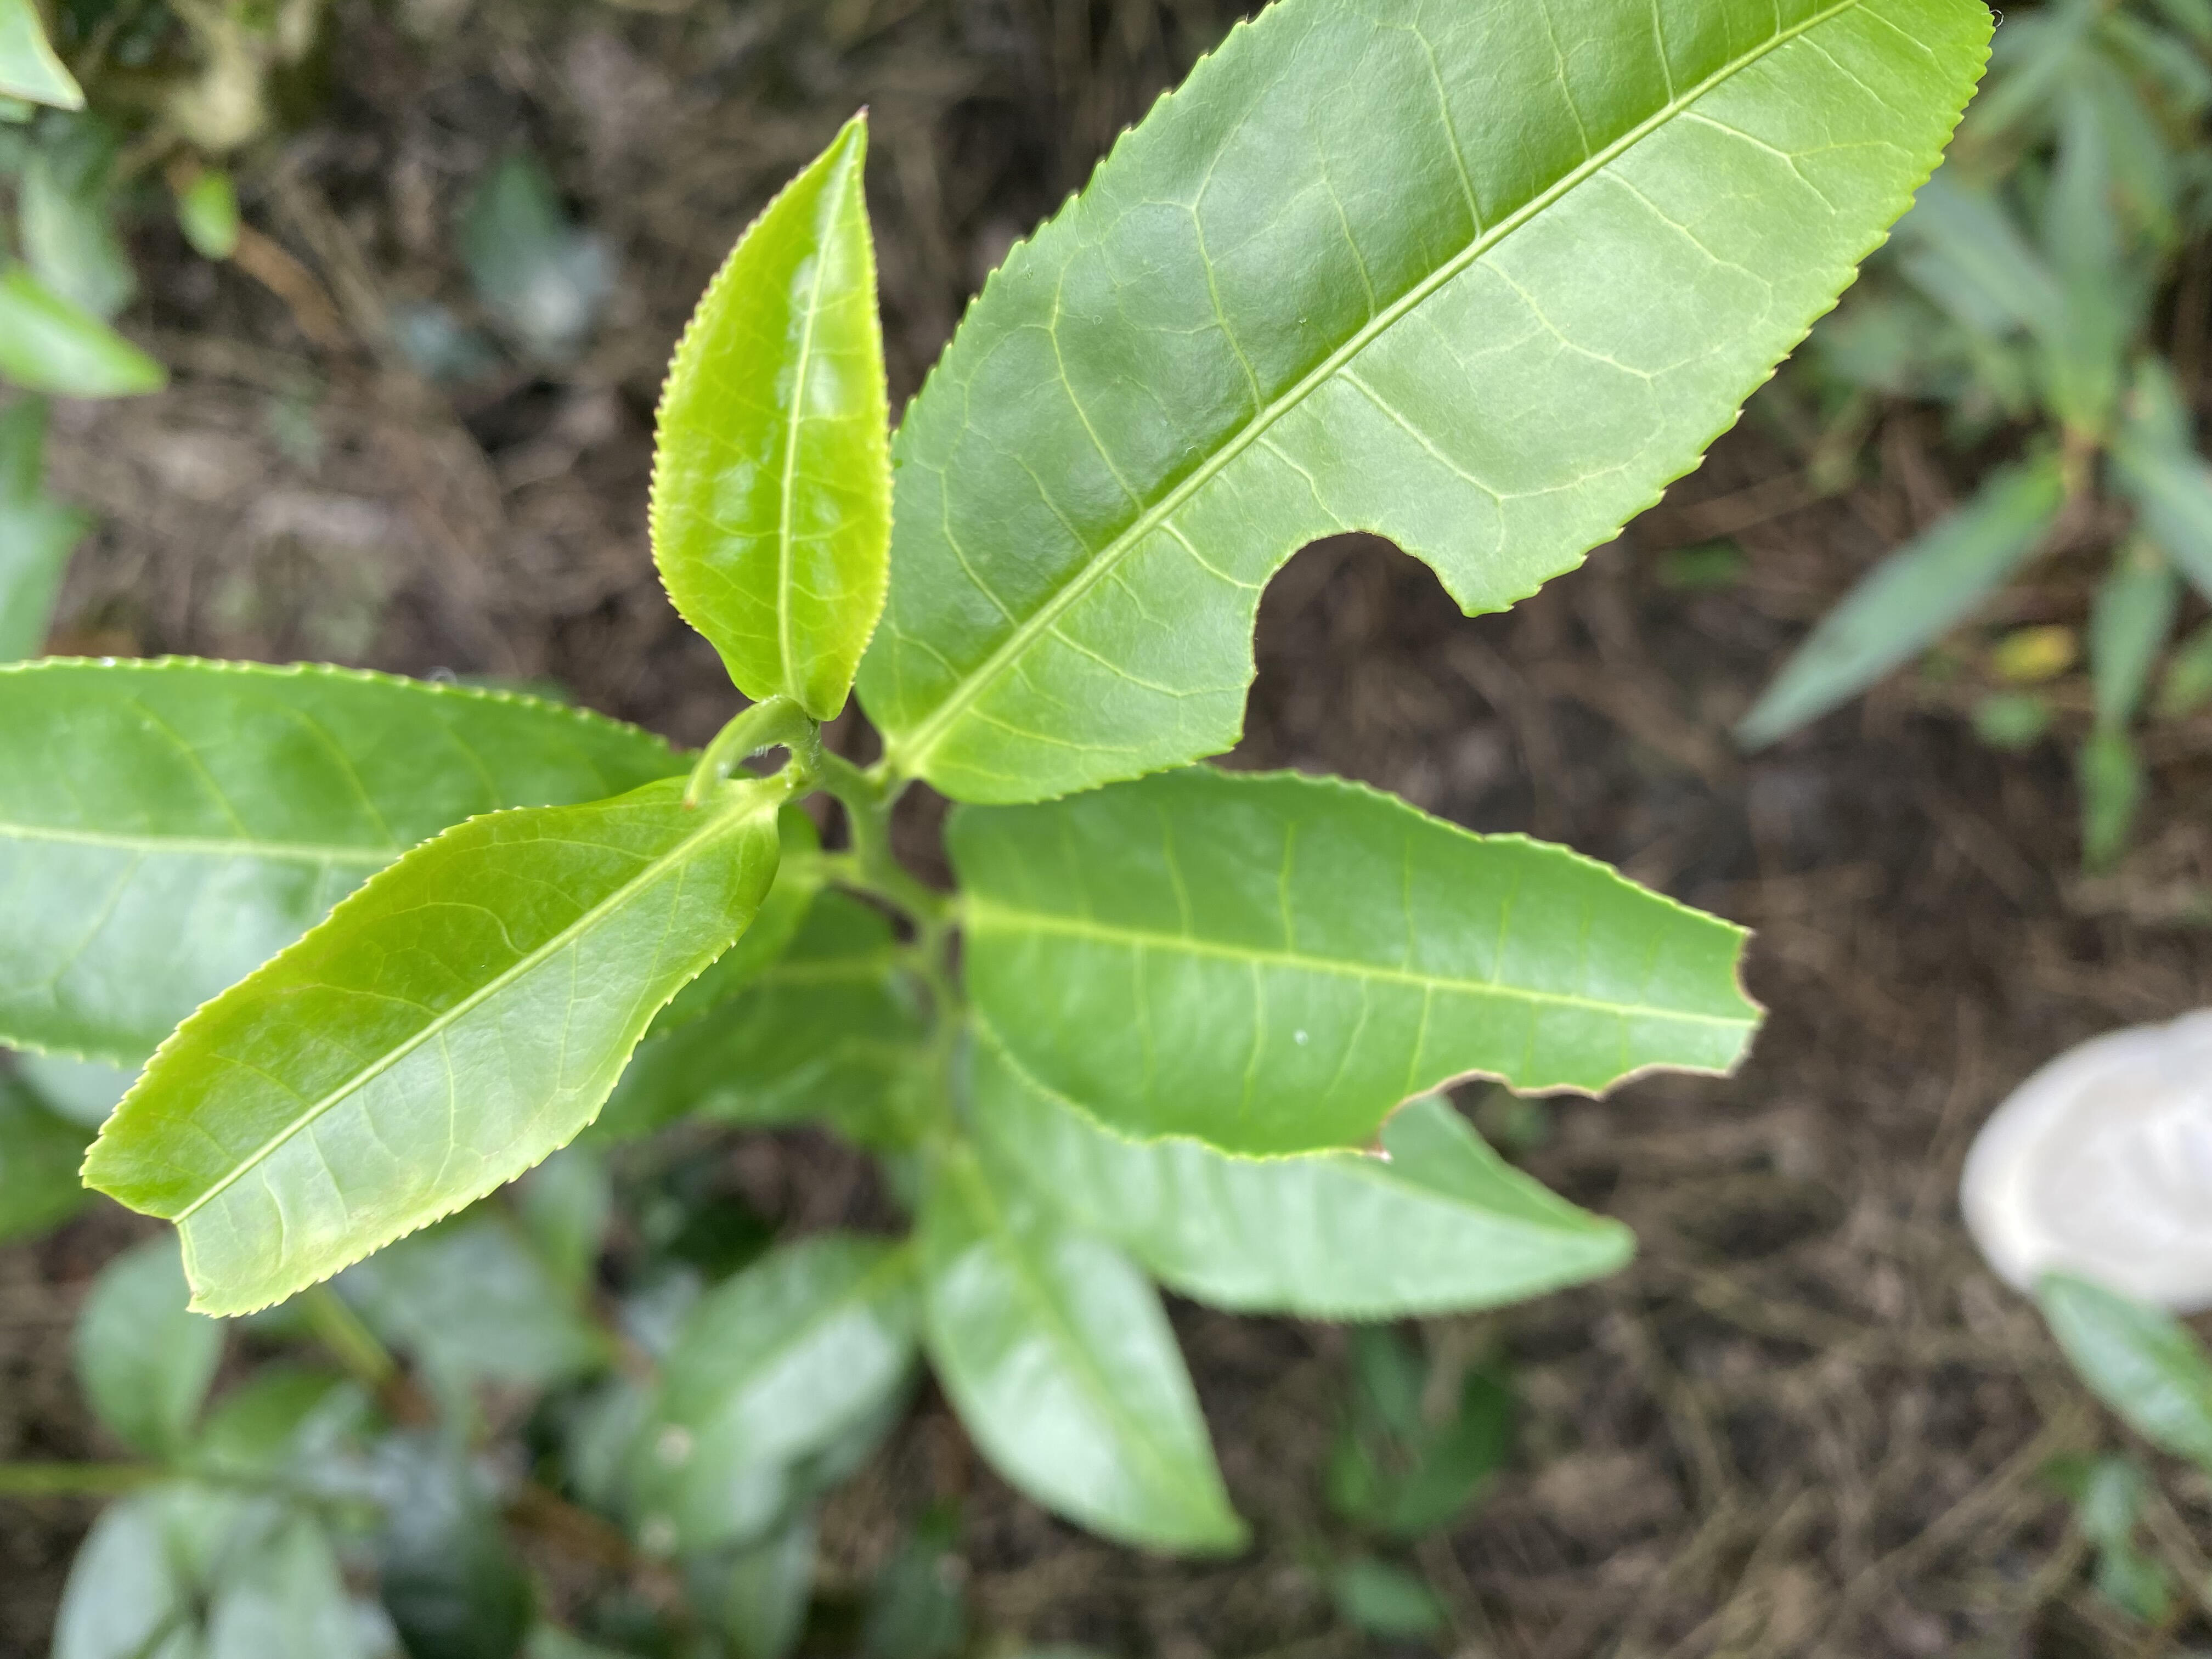chihuo_high: (944, 765, 1771, 1166)
chihuo_low: (852, 3, 2006, 807), (77, 774, 786, 1317)
healthy: (641, 106, 895, 718)
